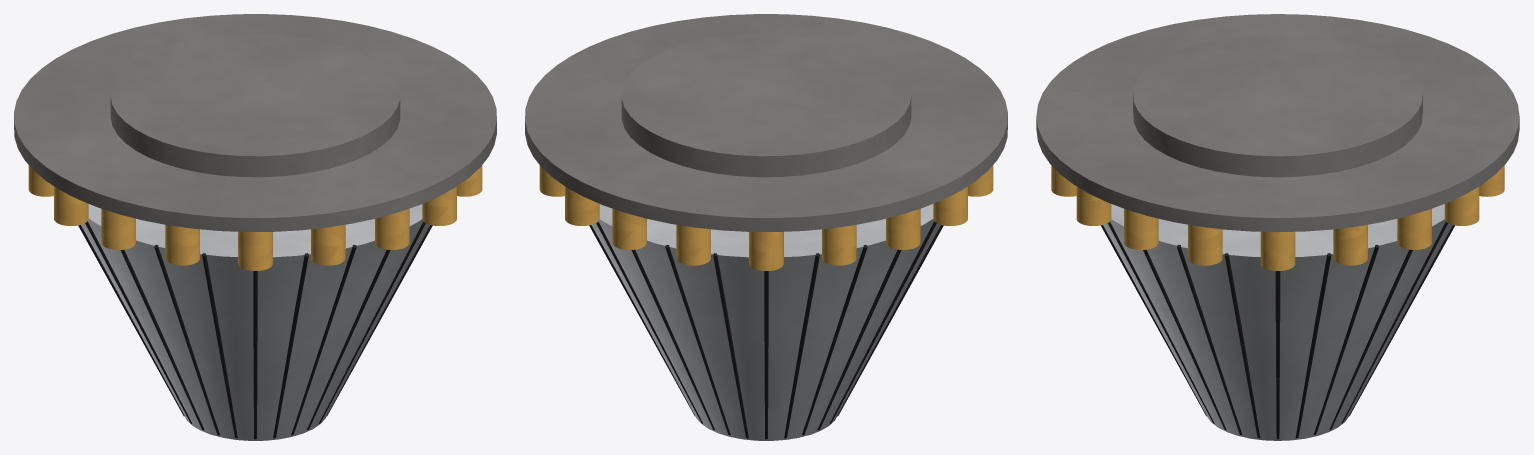
Rendered from prop16_aerospike_toroidal.glb.
The picture shows the model from 3 angles, left to right: view 1: azimuth 30°, elevation 25°; view 2: azimuth 150°, elevation 25°; view 3: azimuth 270°, elevation 25°; orthographic projection.
Visible parts, largest first — view 1: thrust_structure, plug, chamber_ring, cooling_ribs; view 2: thrust_structure, plug, chamber_ring, cooling_ribs; view 3: thrust_structure, plug, chamber_ring, cooling_ribs.
Part boxes in pixels (<box>): thrust_structure: <box>14,14,496,231</box>; plug: <box>81,204,430,440</box>; chamber_ring: <box>28,165,482,270</box>; cooling_ribs: <box>78,221,432,439</box>; thrust_structure: <box>525,14,1007,231</box>; plug: <box>591,204,940,440</box>; chamber_ring: <box>539,165,993,270</box>; cooling_ribs: <box>589,221,943,439</box>; thrust_structure: <box>1036,14,1519,232</box>; plug: <box>1103,204,1452,440</box>; chamber_ring: <box>1051,165,1504,270</box>; cooling_ribs: <box>1101,222,1454,439</box>.
Size of the model in its own units: 2.5 by 1.8 by 2.5.
Materials: 4 (3 with a texture image).
